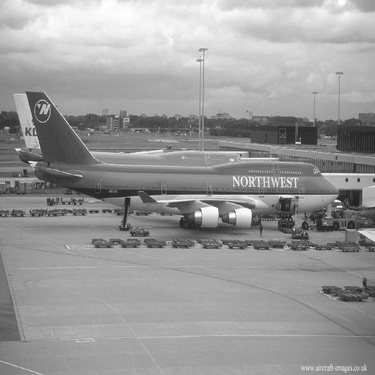airplane: (5, 76, 344, 241), (1, 76, 259, 188)
